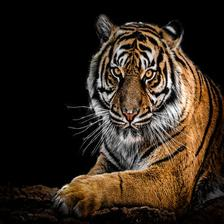tiger: (71, 12, 224, 224)
